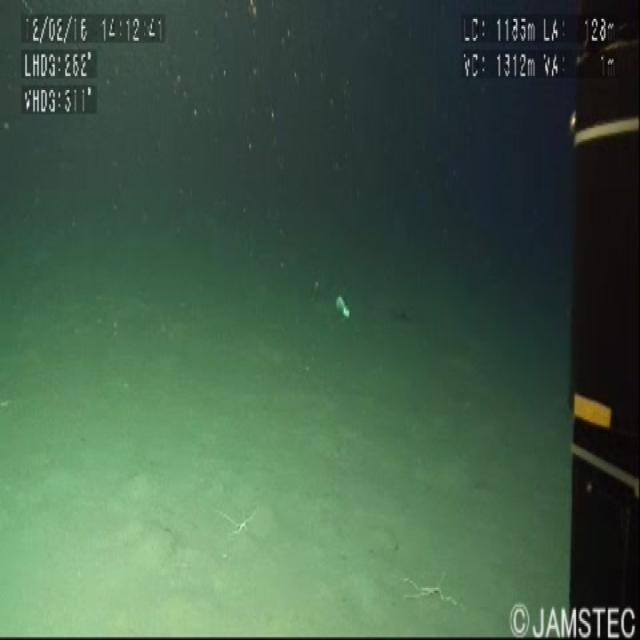Litter: (322, 262, 361, 341)
